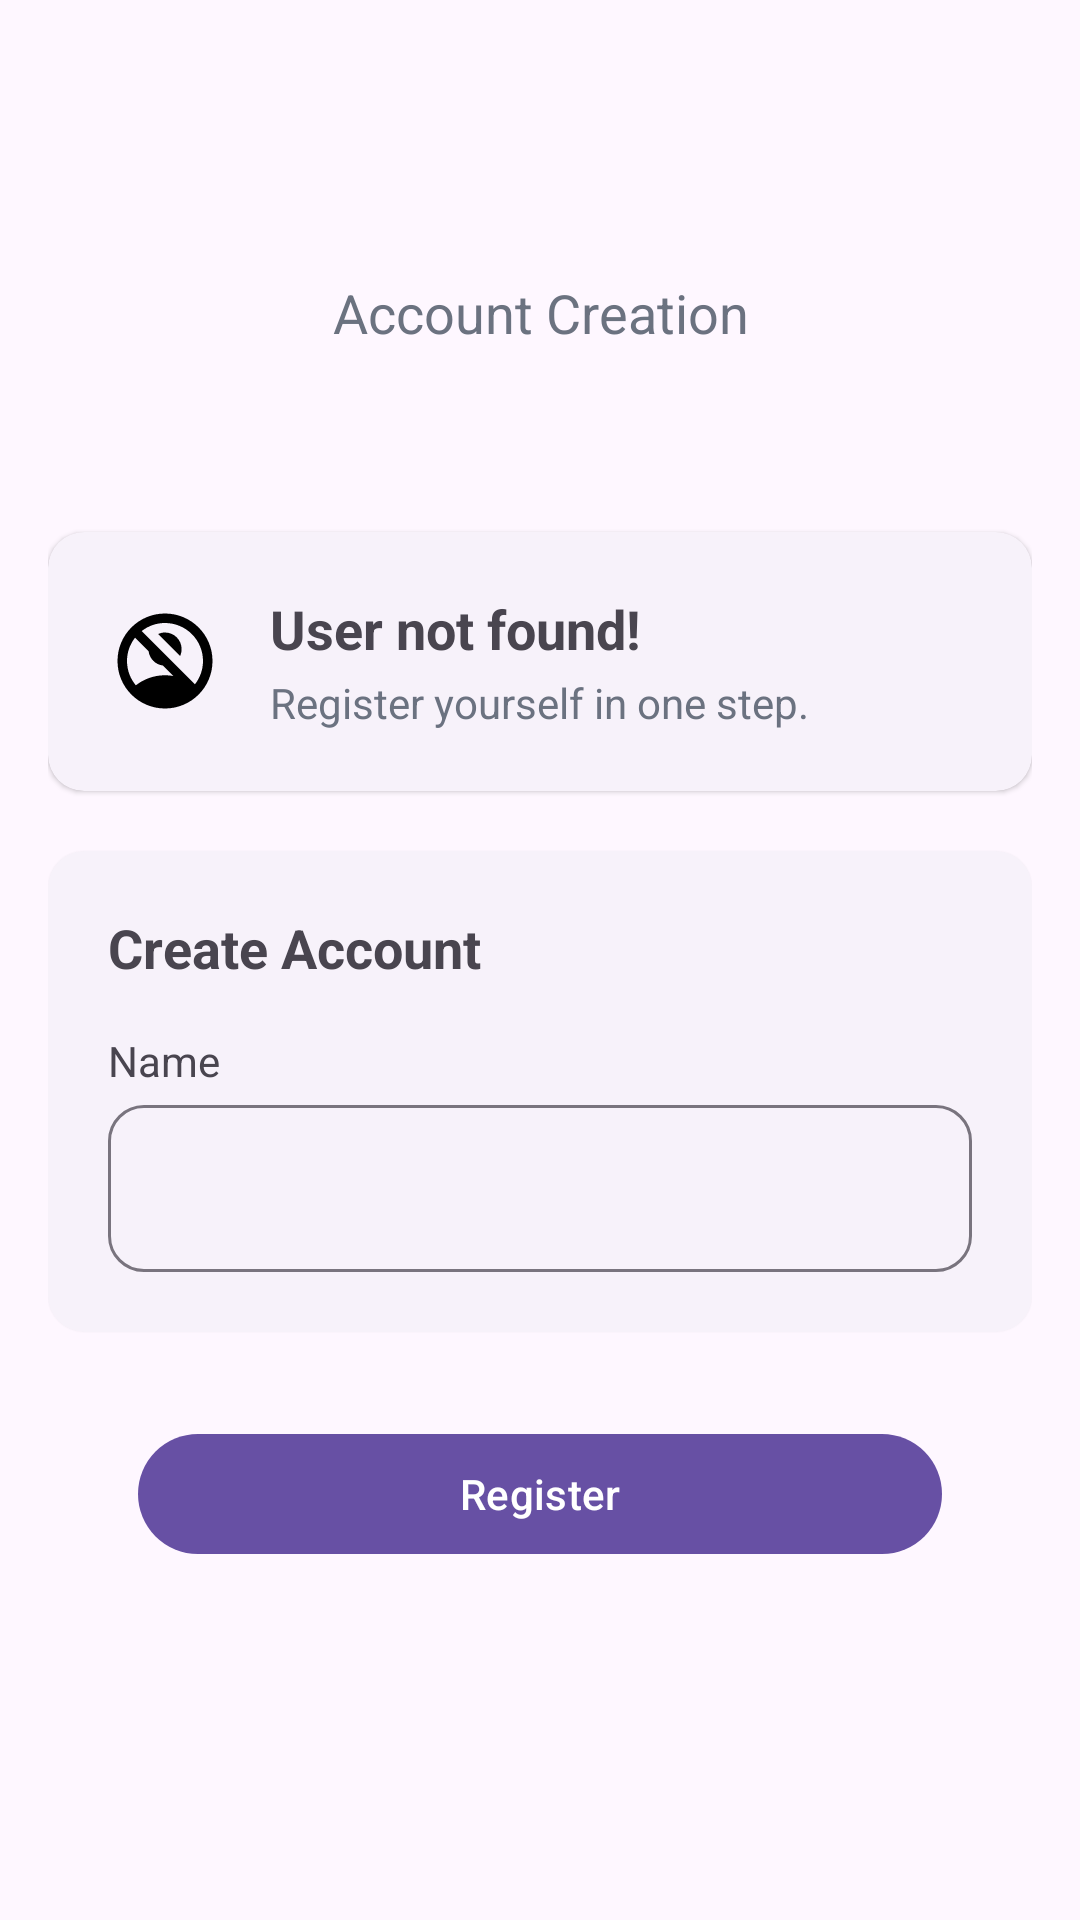

Where to tap for icons on this 1080×1920 app screen, as point (x, y):
no account: point (165, 661)
